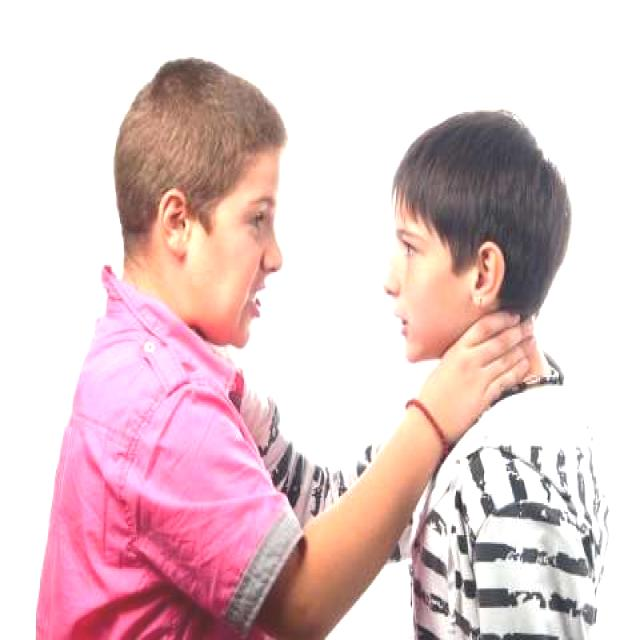fight: (72, 57, 611, 640)
